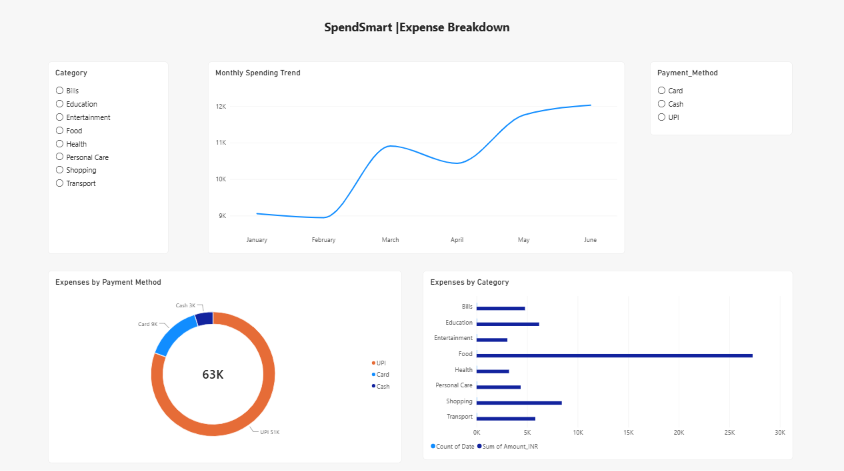

This screenshot's page, from the dashboard's own definition file:
{"tool":"powerbi","page":{"name":"Page 2","canvas":[1920,1080],"ordinal":1},"visuals":[{"type":"donutChart","title":"Expenses by Payment Method","fields":{"Category":["SpendSmart_Expenses.Payment_Method"],"Y":["Sum(SpendSmart_Expenses.Amount_INR)"]},"box":[110,616.7,803.3,436.7],"z":0},{"type":"lineChart","title":"Monthly Spending Trend","fields":{"Category":["SpendSmart_Expenses.Date.Variation.Date Hierarchy.Month","SpendSmart_Expenses.Date.Variation.Date Hierarchy.Day"],"Y":["Sum(SpendSmart_Expenses.Amount_INR)"]},"box":[473.3,143.3,946.7,436.7],"z":1000},{"type":"clusteredBarChart","title":"Expenses by Category","fields":{"Category":["SpendSmart_Expenses.Category","SpendSmart_Expenses.Date.Variation.Date Hierarchy.Year","SpendSmart_Expenses.Date.Variation.Date Hierarchy.Quarter","SpendSmart_Expenses.Date.Variation.Date Hierarchy.Month","SpendSmart_Expenses.Date.Variation.Date Hierarchy.Day"],"Y":["CountNonNull(SpendSmart_Expenses.Date)","Sum(SpendSmart_Expenses.Amount_INR)"]},"box":[960,616.7,840,430],"z":2000},{"type":"textbox","box":[30,45,1835,207.5],"z":3000},{"type":"textbox","box":[1116,580,428,430],"z":4000},{"type":"listSlicer","fields":{"Values":["SpendSmart_Expenses.Category"]},"box":[110,143.3,273.3,436.7],"z":4001},{"type":"listSlicer","fields":{"Values":["SpendSmart_Expenses.Payment_Method"]},"box":[1476.7,143.3,323.3,166.7],"z":4002}]}

Visuals, with their boxes in screenshot pixels (x1, y1, x2, y2), scaled from the page's 1920x1080 canvas onto the 844x471 screenshot:
"Expenses by Payment Method" donutChart: (48, 269, 401, 459)
"Monthly Spending Trend" lineChart: (208, 62, 624, 253)
"Expenses by Category" clusteredBarChart: (422, 269, 791, 456)
textbox: (13, 20, 820, 110)
textbox: (491, 253, 679, 440)
listSlicer - SpendSmart_Expenses.Category: (48, 62, 168, 253)
listSlicer - SpendSmart_Expenses.Payment_Method: (649, 62, 791, 135)
